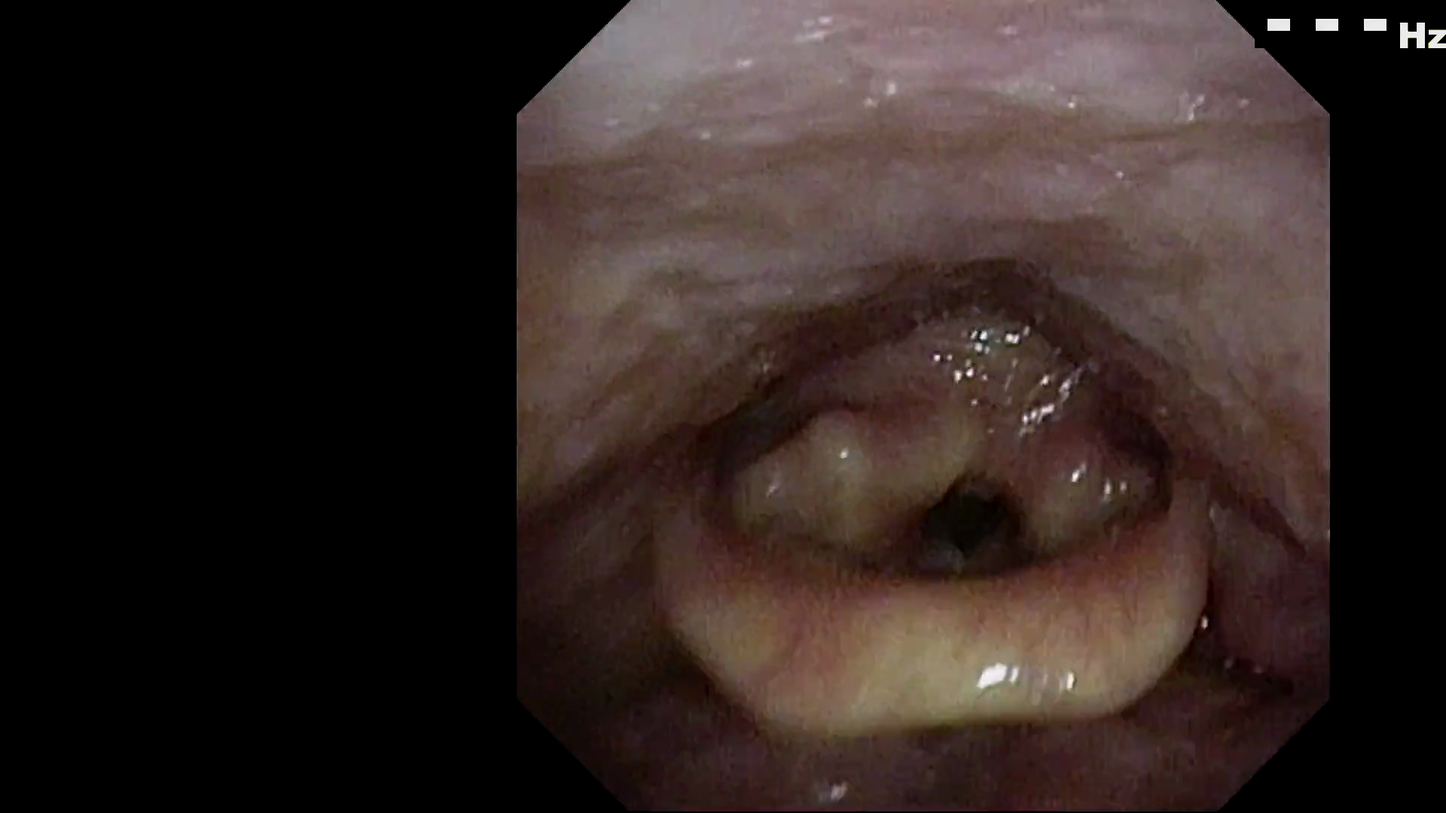epiglottis: (644, 501, 1214, 724)
trachea: (919, 512, 1008, 610)
